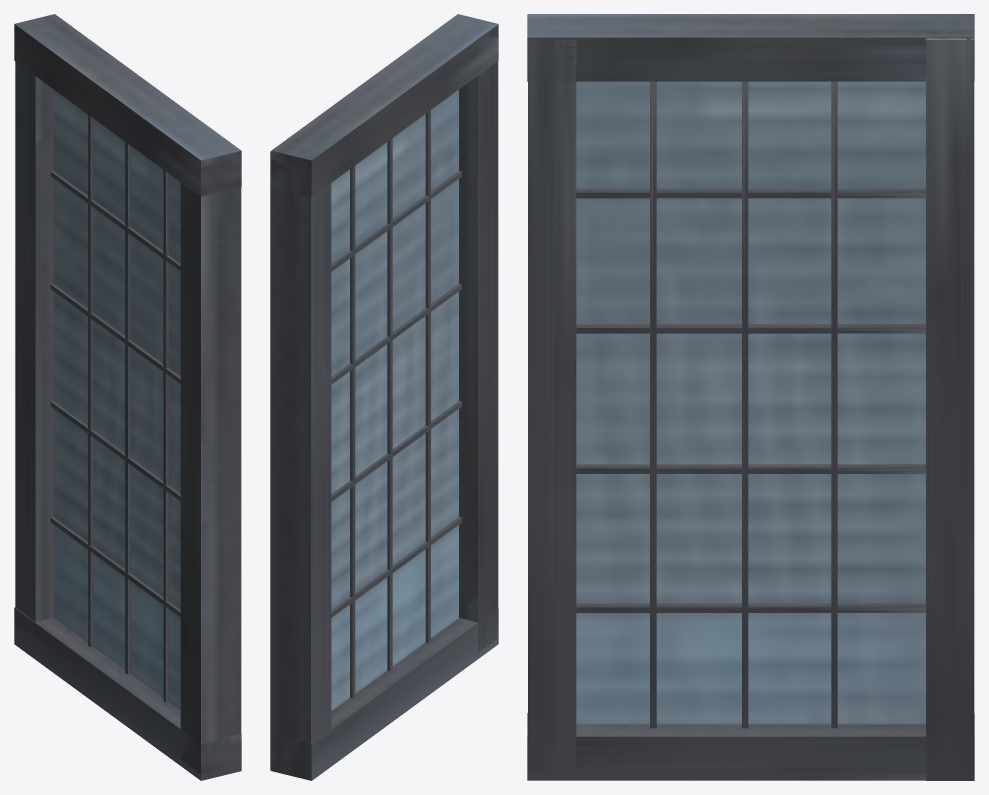
File: window_v2.fbx
The picture shows the model from 3 angles, left to right: view 1: azimuth 30°, elevation 25°; view 2: azimuth 150°, elevation 25°; view 3: azimuth 270°, elevation 25°; orthographic projection. The views are drawn at different scales.
Visible parts, largest first — view 1: Plane.001; view 2: Plane.001; view 3: Plane.001.
Boxes of the visible parts, x1,y1,x2,y2 form: Plane.001: (14,14,241,780); Plane.001: (270,14,498,780); Plane.001: (527,14,974,780).
Size of the model in its own units: 35.89 by 514 by 280.
Materials: 8 (8 with a texture image).
